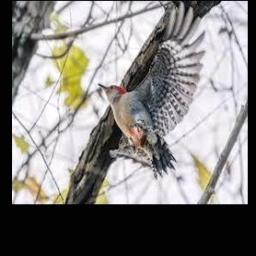Woodpecker: (99, 1, 205, 178)
